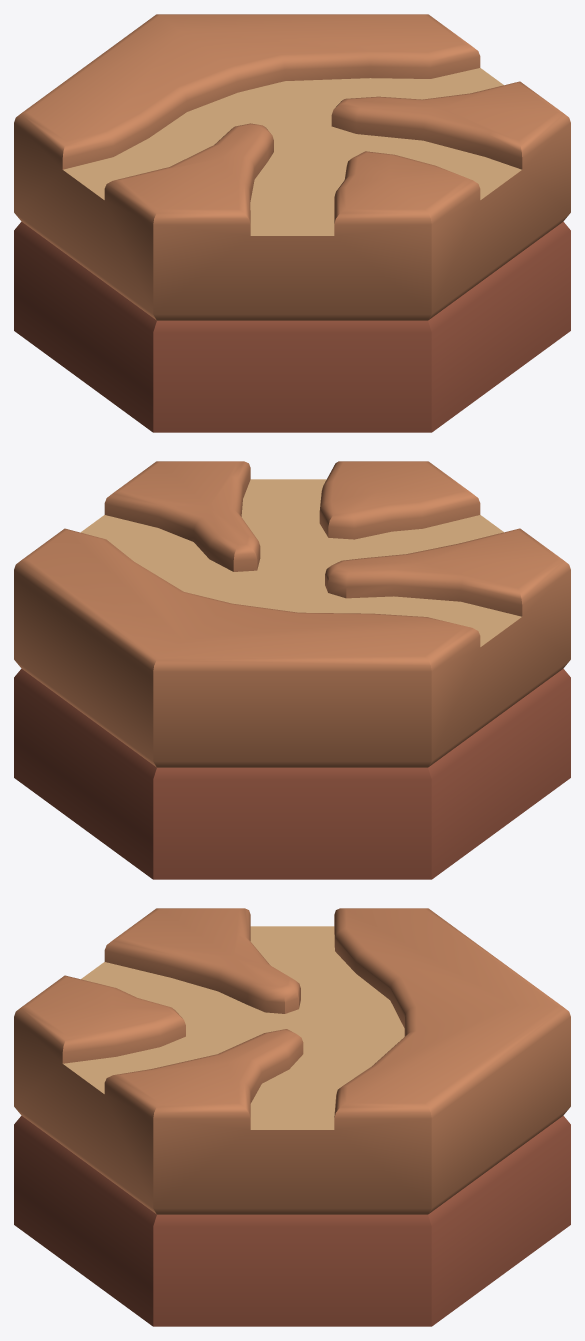
File: hex_rock_roadK_detail.glb
The picture shows the model from 3 angles, top to bottom: view 1: azimuth 30°, elevation 25°; view 2: azimuth 150°, elevation 25°; view 3: azimuth 270°, elevation 25°; orthographic projection.
Visible parts, largest first — view 1: hex_rock_roadK_detail; view 2: hex_rock_roadK_detail; view 3: hex_rock_roadK_detail.
Boxes of the visible parts, x1,y1,x2,y2 form: hex_rock_roadK_detail: (14, 14, 570, 432); hex_rock_roadK_detail: (14, 461, 570, 879); hex_rock_roadK_detail: (14, 908, 570, 1326).
Size of the model in its own units: 3.82 by 1.91 by 4.41.
